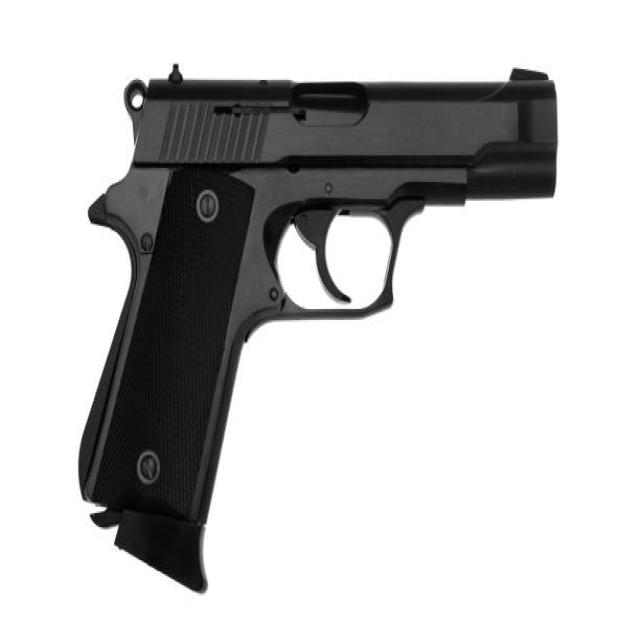pistol: (72, 58, 568, 602)
